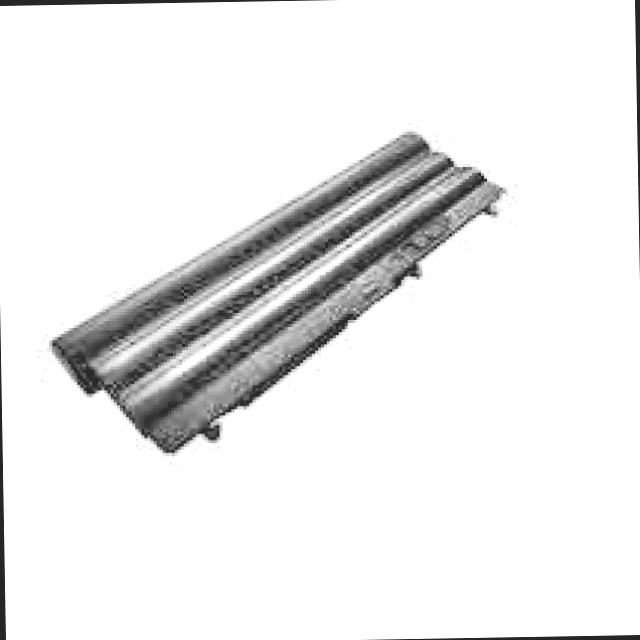Battery: (41, 130, 498, 467)
